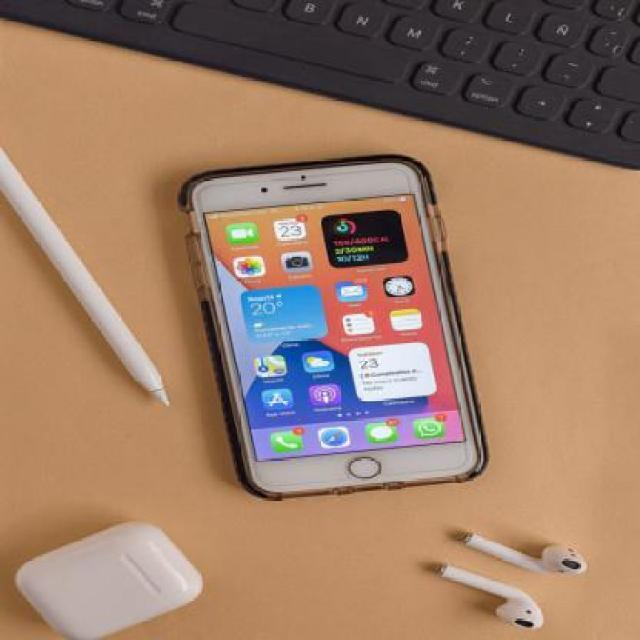phone: (173, 156, 490, 493)
